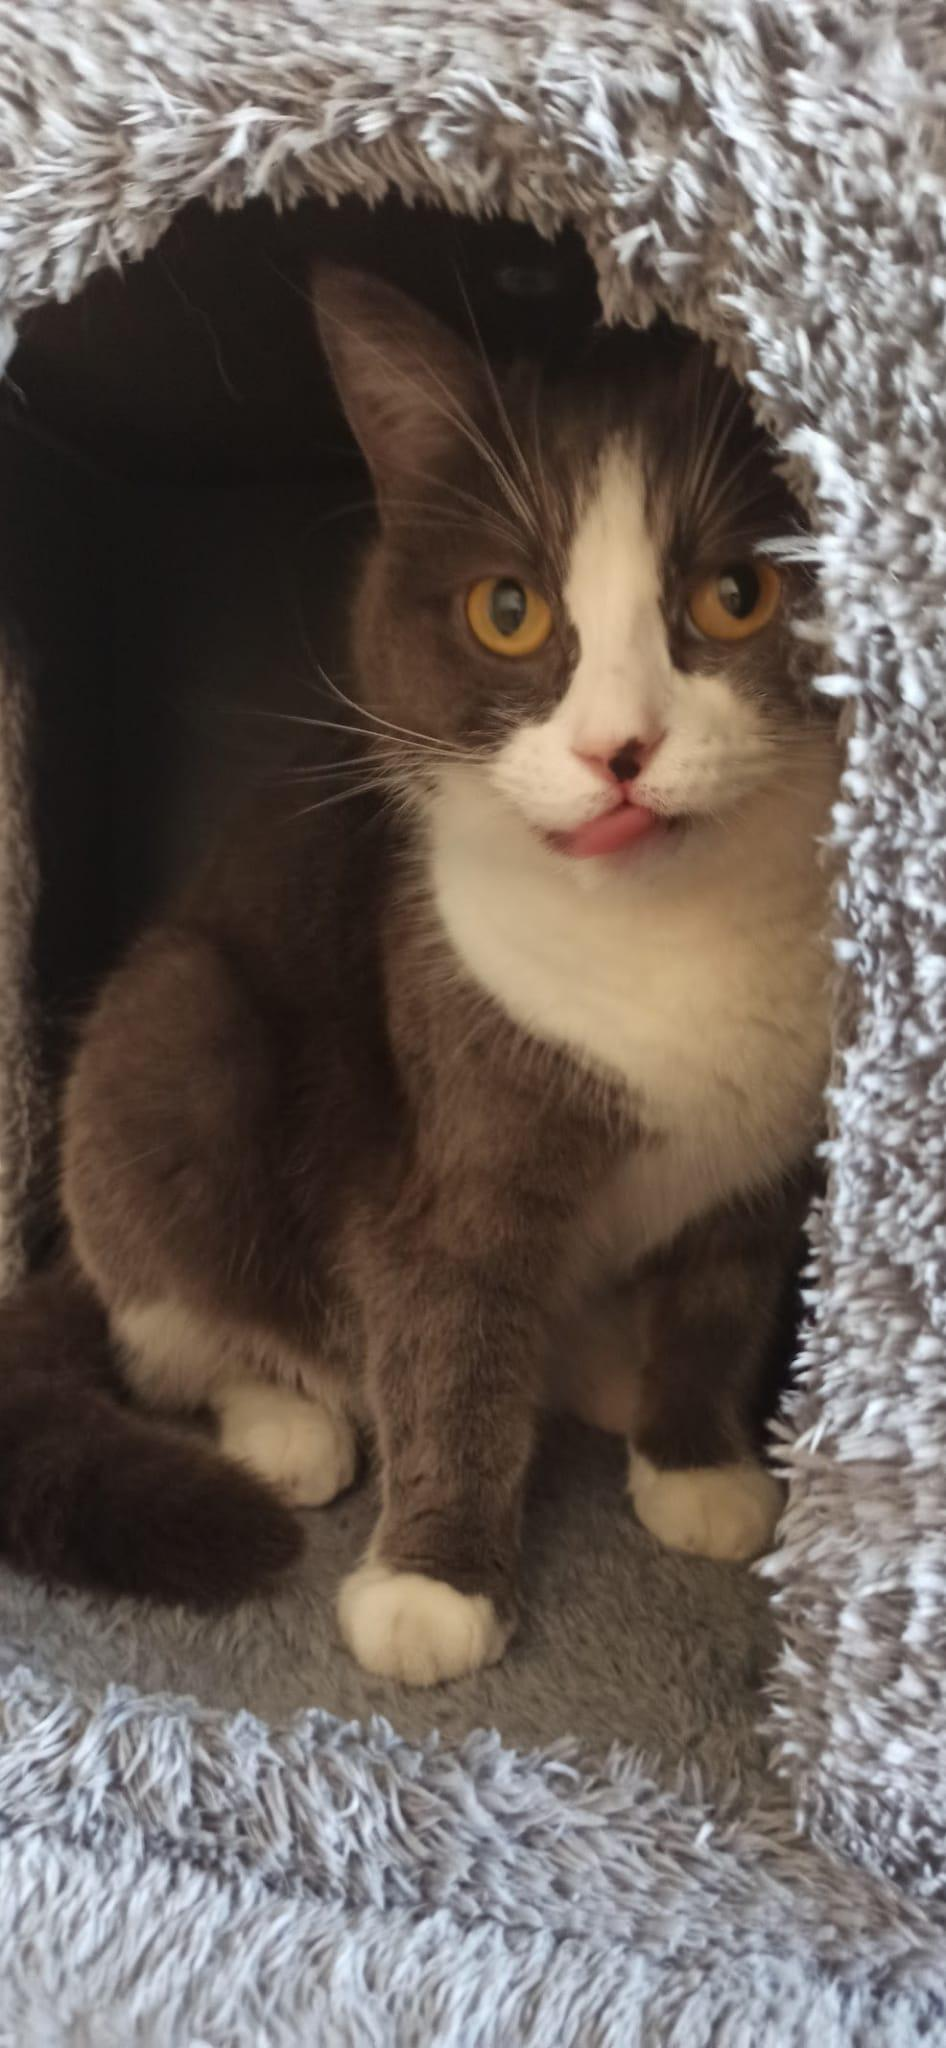kedo: (17, 261, 841, 1677)
